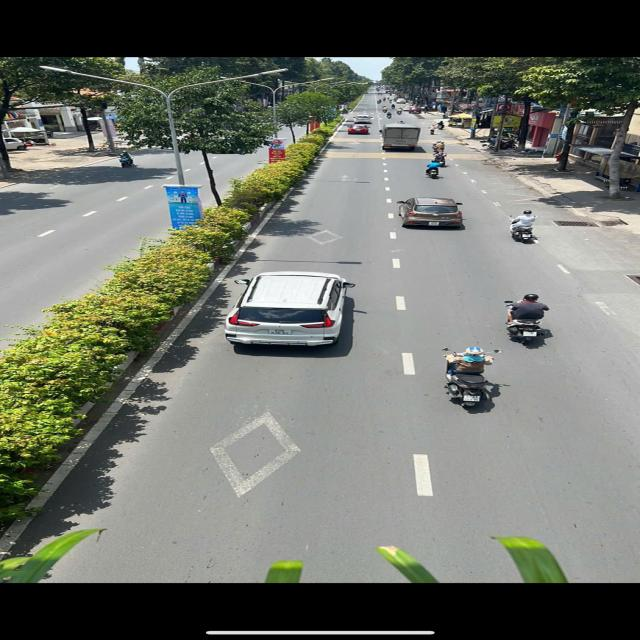ben: (379, 122, 421, 152)
car: (226, 270, 357, 350), (398, 197, 466, 230), (348, 122, 371, 136), (354, 114, 374, 124), (409, 106, 424, 115), (395, 96, 407, 104), (405, 104, 416, 110)
motobyte: (437, 344, 505, 416), (504, 292, 555, 349), (510, 209, 544, 246), (423, 160, 447, 180), (431, 150, 454, 170), (432, 140, 452, 155), (427, 124, 440, 136), (437, 119, 448, 131), (380, 104, 390, 114), (385, 111, 395, 120), (396, 106, 404, 115), (389, 102, 397, 110), (381, 96, 388, 102), (376, 98, 382, 104)
